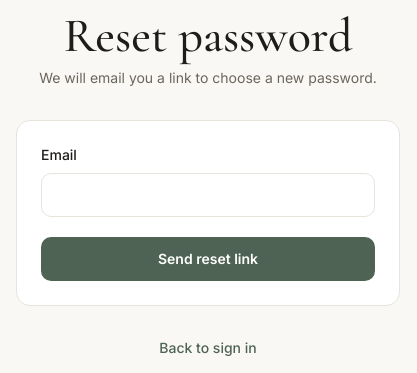
forgot password › confirms without revealing whether the account exists
Type "someone@example.com" into the field labelled "Email" at (208, 195), box [41,173,375,217]
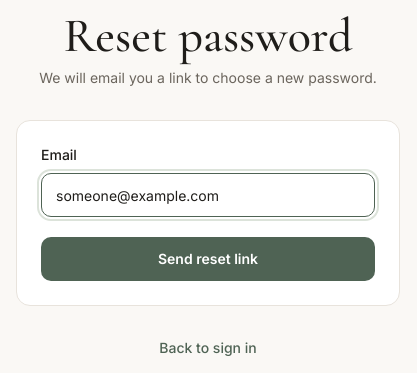
Click the button "Send reset link" at (208, 259), box [41,237,375,281]
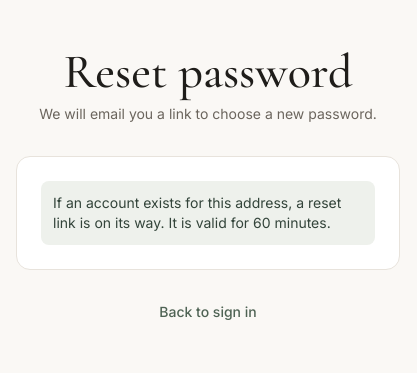
Now the message shows "If an account exists", box [53,194,341,231]
